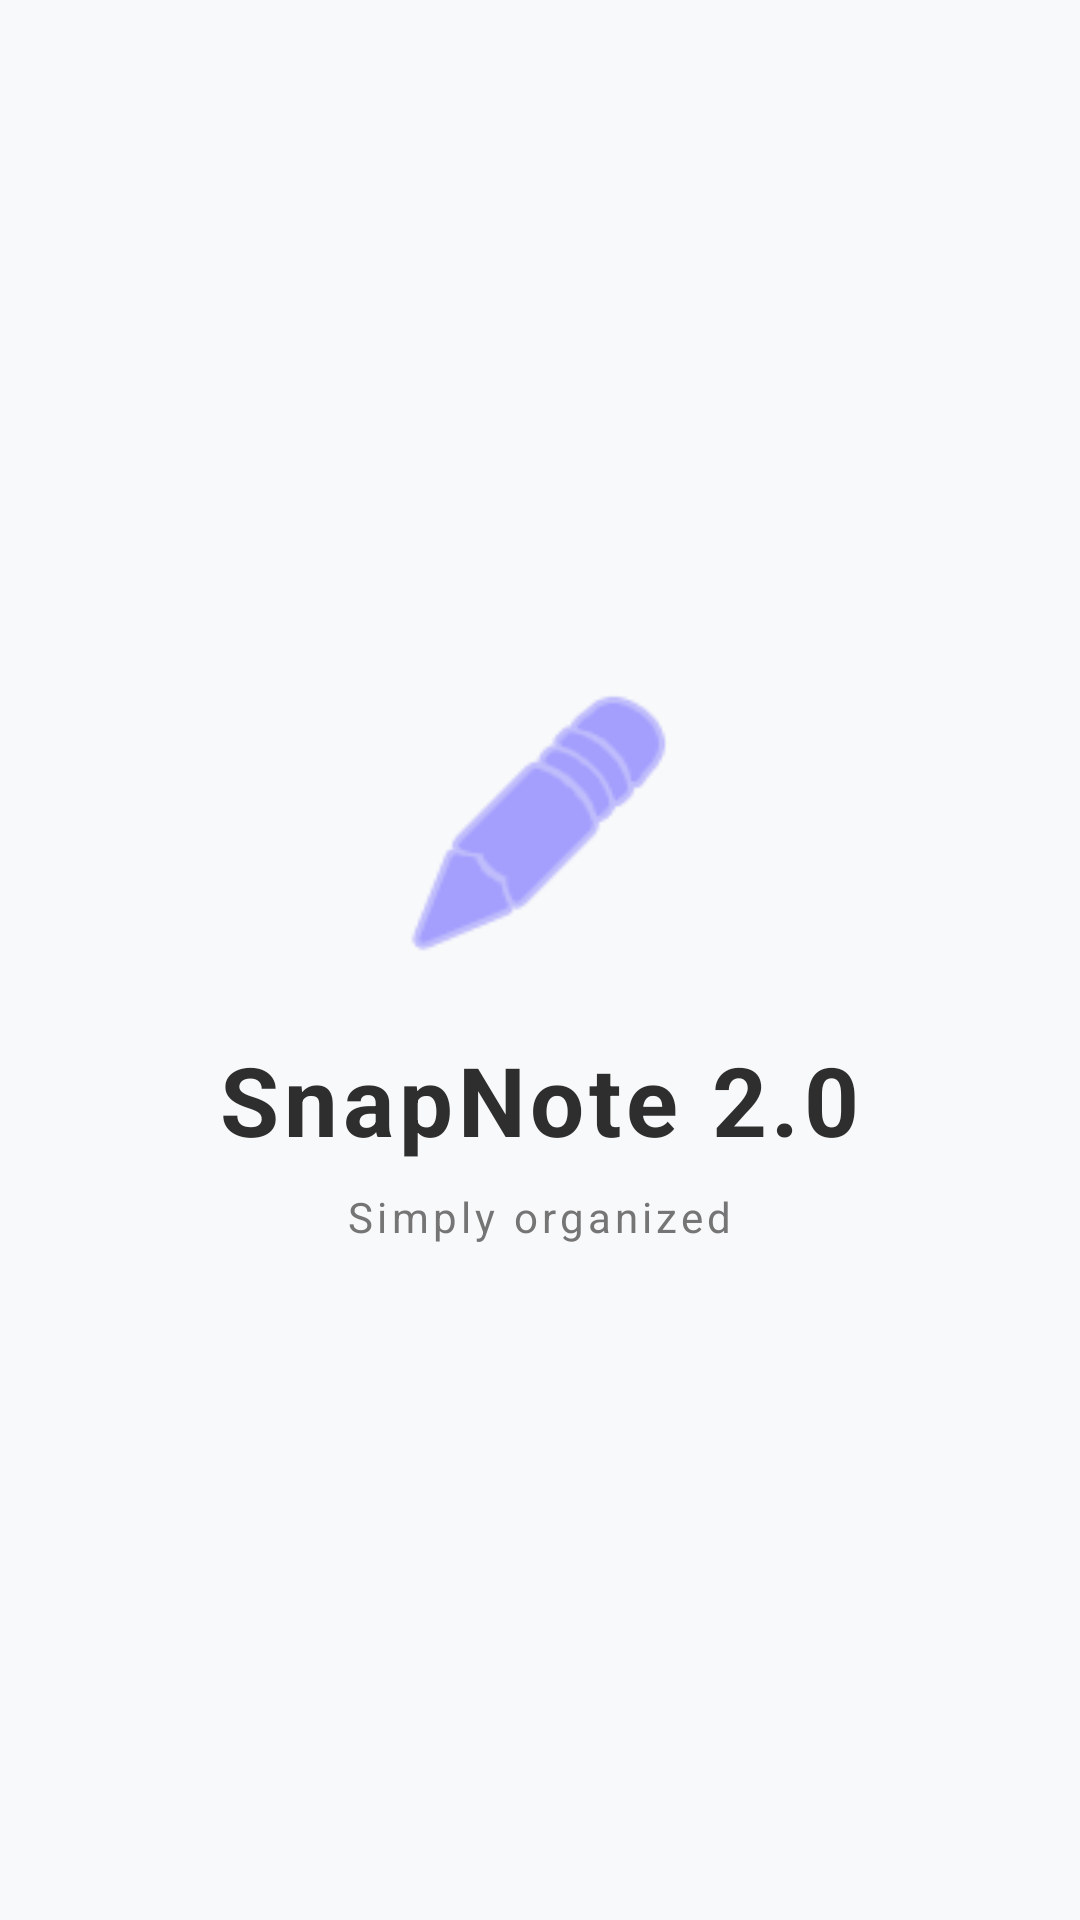

Point at icon controls on the screen. Image size 1080px x 1920px, points as point (x, y).
edit: point (538, 823)
